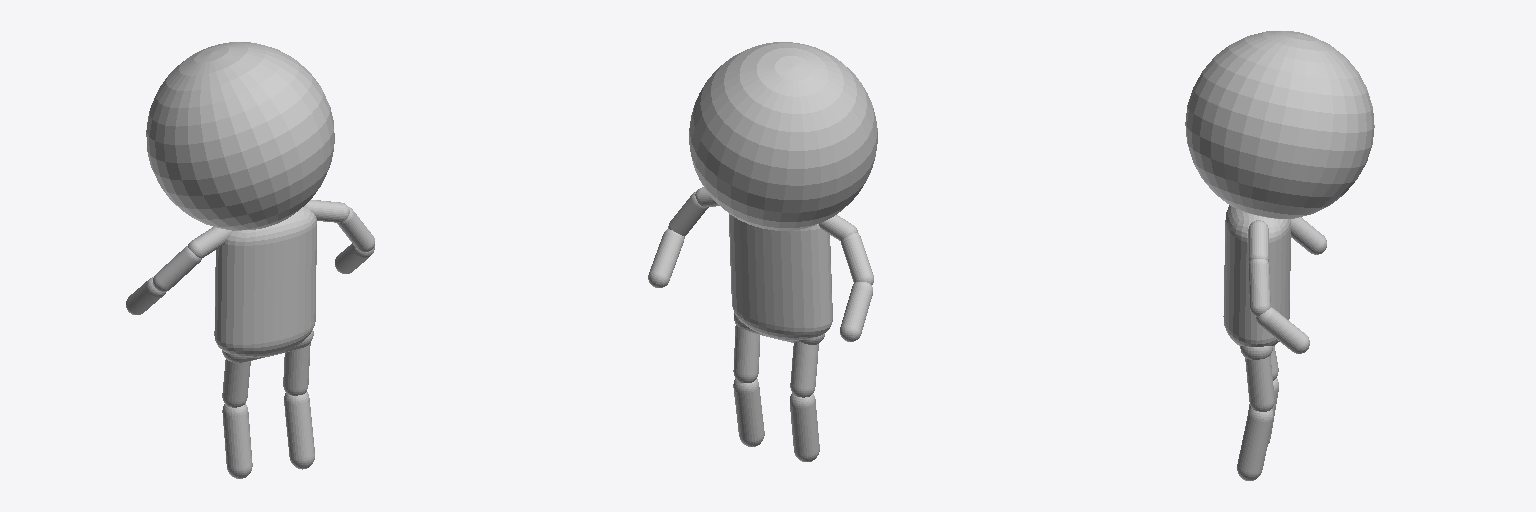
File: Stickman_000066.obj
The picture shows the model from 3 angles: view 1: azimuth 30°, elevation 25°; view 2: azimuth 150°, elevation 25°; view 3: azimuth 270°, elevation 25°; orthographic projection.
Parts seen in each view (by area): view 1: Head_Sphere.001, Body_Roundcube.002, LowerLegLeft_Roundcube.013, LowerLegRight_Roundcube.011, UpperLegLeft_Roundcube.012, UpperLegRight_Roundcube.010, UpperArmRight_Roundcube.015, UpperArmLeft_Roundcube.018, LowerArmRight_Roundcube.016, ShoulderRight_Roundcube.014, ShoulderLeft_Roundcube.017, LowerArmLeft_Roundcube.019; view 2: Head_Sphere.001, Body_Roundcube.002, LowerLegRight_Roundcube.011, LowerLegLeft_Roundcube.013, UpperLegRight_Roundcube.010, UpperLegLeft_Roundcube.012, LowerArmRight_Roundcube.016, LowerArmLeft_Roundcube.019, UpperArmRight_Roundcube.015, UpperArmLeft_Roundcube.018, ShoulderRight_Roundcube.014; view 3: Head_Sphere.001, Body_Roundcube.002, LowerLegLeft_Roundcube.013, UpperLegLeft_Roundcube.012, LowerArmLeft_Roundcube.019, UpperArmLeft_Roundcube.018, LowerArmRight_Roundcube.016, ShoulderLeft_Roundcube.017.
Boxes of the visible parts, x1=… form: Head_Sphere.001: x1=146, y1=42, x2=334, y2=230; Body_Roundcube.002: x1=214, y1=206, x2=316, y2=357; LowerLegLeft_Roundcube.013: x1=284, y1=392, x2=314, y2=469; LowerLegRight_Roundcube.011: x1=222, y1=403, x2=252, y2=478; UpperLegLeft_Roundcube.012: x1=283, y1=343, x2=310, y2=395; UpperLegRight_Roundcube.010: x1=222, y1=359, x2=250, y2=407; UpperArmRight_Roundcube.015: x1=153, y1=246, x2=201, y2=291; UpperArmLeft_Roundcube.018: x1=337, y1=207, x2=374, y2=252; LowerArmRight_Roundcube.016: x1=126, y1=277, x2=165, y2=314; ShoulderRight_Roundcube.014: x1=188, y1=227, x2=231, y2=258; ShoulderLeft_Roundcube.017: x1=305, y1=200, x2=349, y2=222; LowerArmLeft_Roundcube.019: x1=335, y1=243, x2=374, y2=273; Head_Sphere.001: x1=689, y1=42, x2=877, y2=230; Body_Roundcube.002: x1=729, y1=214, x2=832, y2=340; LowerLegRight_Roundcube.011: x1=790, y1=393, x2=819, y2=461; LowerLegLeft_Roundcube.013: x1=733, y1=379, x2=764, y2=446; UpperLegRight_Roundcube.010: x1=790, y1=342, x2=818, y2=397; UpperLegLeft_Roundcube.012: x1=733, y1=325, x2=759, y2=382; LowerArmRight_Roundcube.016: x1=840, y1=282, x2=872, y2=341; LowerArmLeft_Roundcube.019: x1=648, y1=228, x2=684, y2=287; UpperArmRight_Roundcube.015: x1=841, y1=233, x2=873, y2=284; UpperArmLeft_Roundcube.018: x1=668, y1=191, x2=708, y2=236; ShoulderRight_Roundcube.014: x1=819, y1=215, x2=857, y2=240; Head_Sphere.001: x1=1185, y1=31, x2=1374, y2=218; Body_Roundcube.002: x1=1223, y1=205, x2=1290, y2=346; LowerLegLeft_Roundcube.013: x1=1237, y1=408, x2=1273, y2=480; UpperLegLeft_Roundcube.012: x1=1245, y1=355, x2=1274, y2=411; LowerArmLeft_Roundcube.019: x1=1256, y1=307, x2=1309, y2=353; UpperArmLeft_Roundcube.018: x1=1248, y1=259, x2=1270, y2=316; LowerArmRight_Roundcube.016: x1=1291, y1=217, x2=1326, y2=254; ShoulderLeft_Roundcube.017: x1=1248, y1=220, x2=1268, y2=261.
Size of the model in its own units: 6.99 by 12.63 by 5.19.